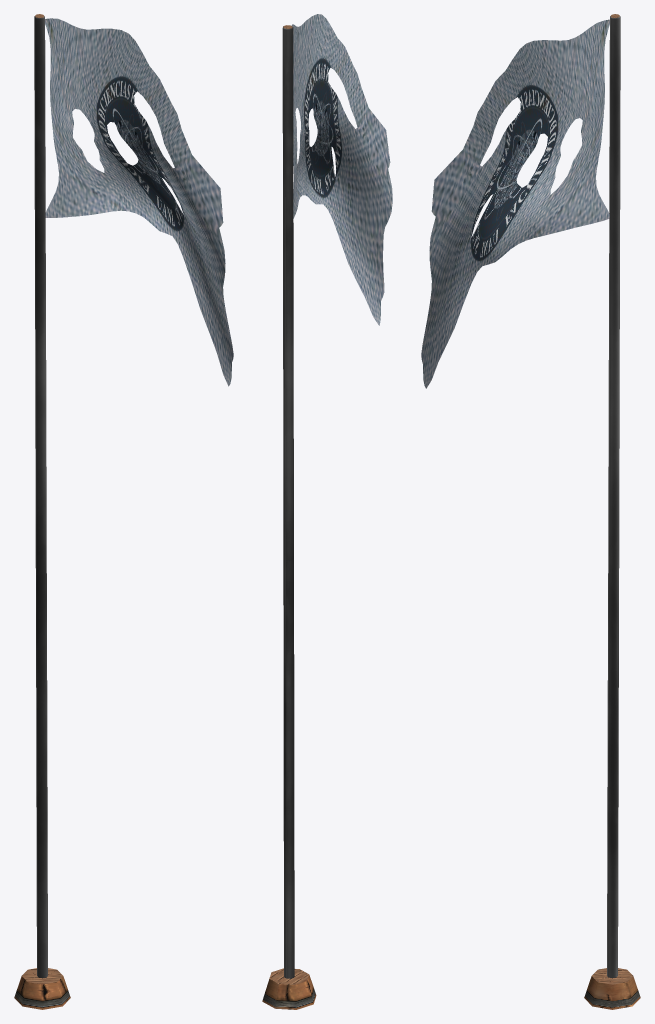
Rendered from 0010_FlagNew.obj.
The picture shows the model from 3 angles, left to right: view 1: azimuth 90°, elevation 25°; view 2: azimuth 150°, elevation 25°; view 3: azimuth 270°, elevation 25°; orthographic projection.
Parts seen in each view (by area): view 1: polymsh1; view 2: polymsh1; view 3: polymsh1.
Part boxes in pixels (<box>): polymsh1: <box>14,14,233,1009</box>; polymsh1: <box>262,14,392,1009</box>; polymsh1: <box>421,14,640,1009</box>.
Size of the model in its own units: 9.71 by 151 by 30.59.
1 material, 1 textured.
